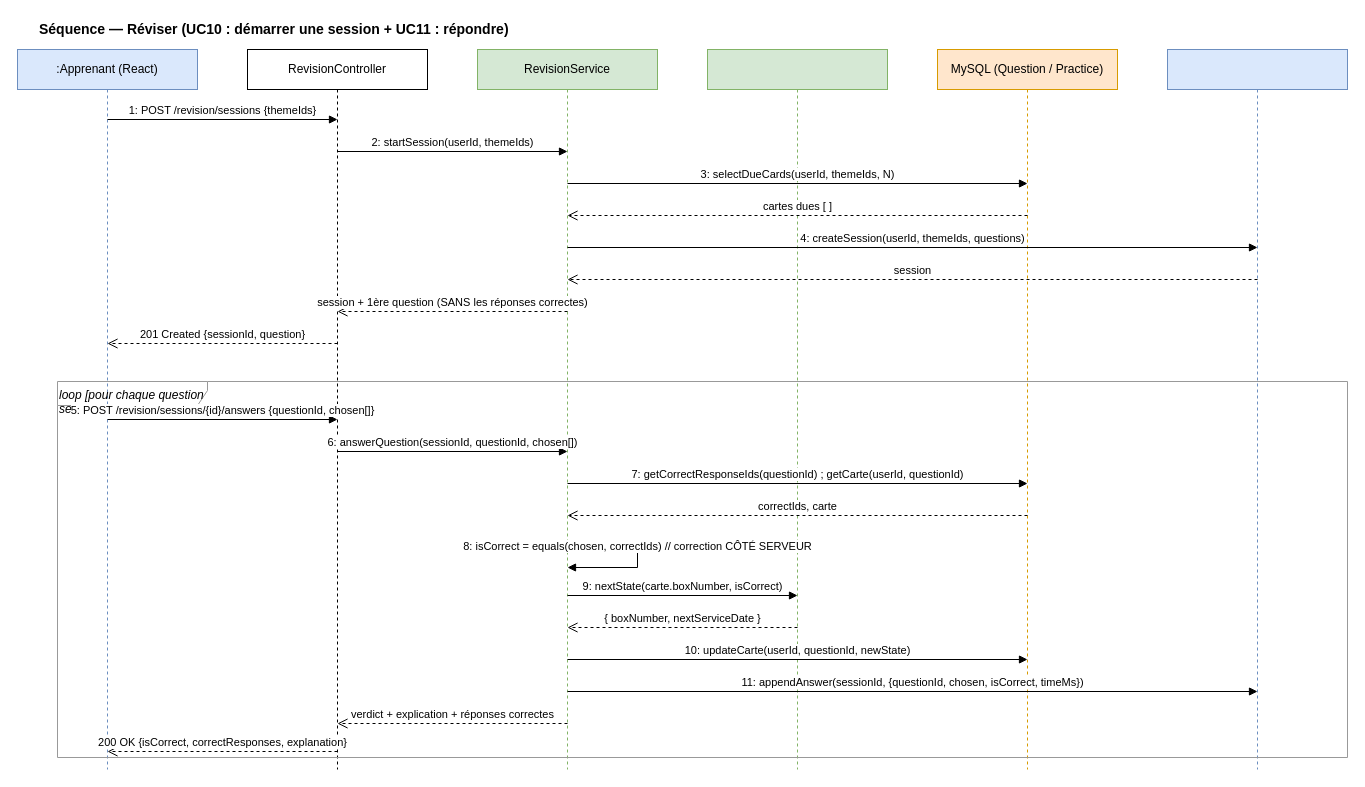
The diagram is 1365 pixels wide and 787 high, and some of its shapes have lost their labels. The shapes that lost their labels are listed below. From the top down, each one's box as (x1, y1, x2, y2) in pixels, then its label:
(706, 48, 888, 770): SpacedRepetitionPolicy
(1166, 48, 1348, 770): MongoDB (Session)
